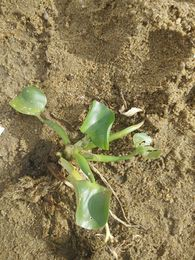water_hyacinth: (8, 86, 160, 229)
